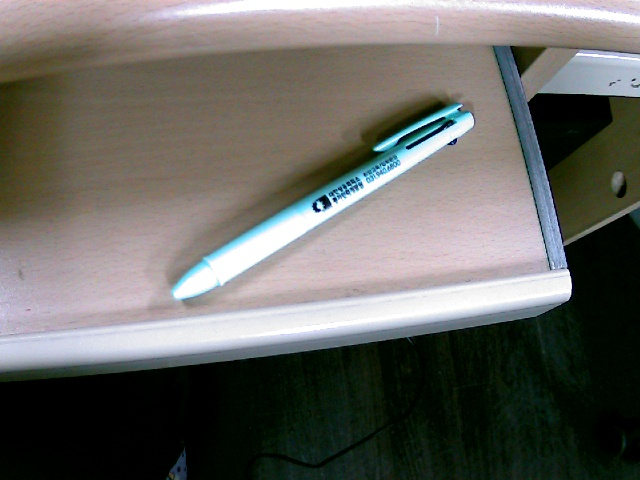pen: (115, 35, 487, 306)
